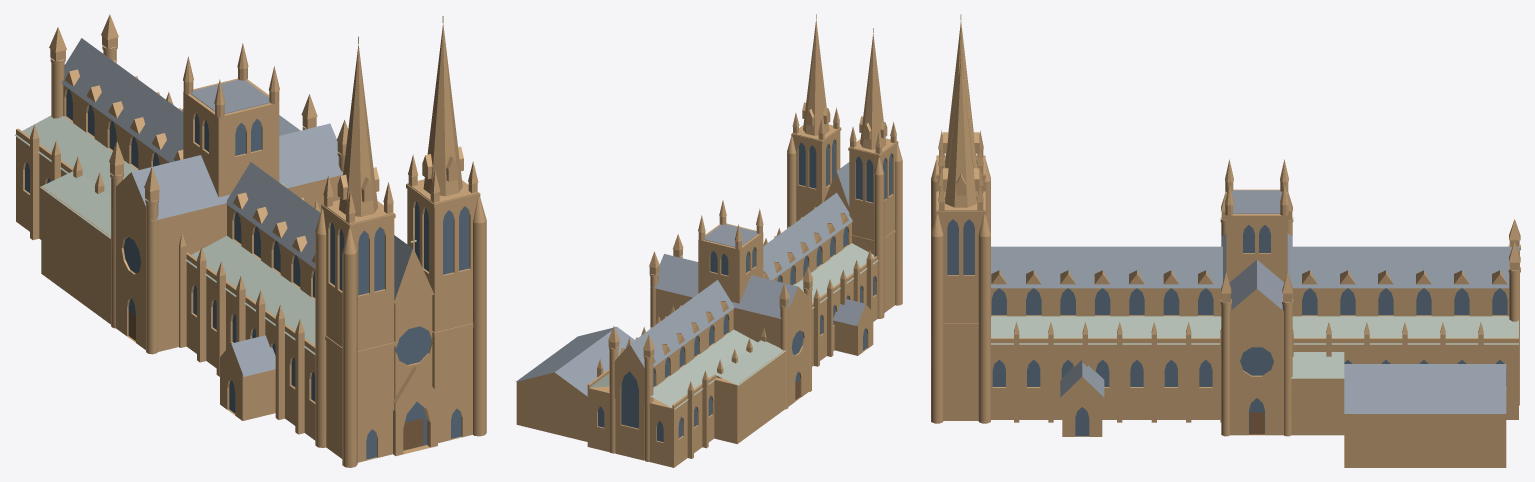
The model's file is sydney-st-marys-cathedral.glb.
3 renders of one model, left to right at view 1: azimuth 30°, elevation 25°; view 2: azimuth 150°, elevation 25°; view 3: azimuth 270°, elevation 25°, orthographic. The views are drawn at different scales.
Parts seen in each view (by area): view 1: St Mary's Cathedral; view 2: St Mary's Cathedral; view 3: St Mary's Cathedral.
Part boxes in pixels (<box>): St Mary's Cathedral: <box>14,14,486,467</box>; St Mary's Cathedral: <box>516,14,902,467</box>; St Mary's Cathedral: <box>931,14,1520,467</box>.
Bounding box in the file's own units: 52.81 × 74.6 × 110.
